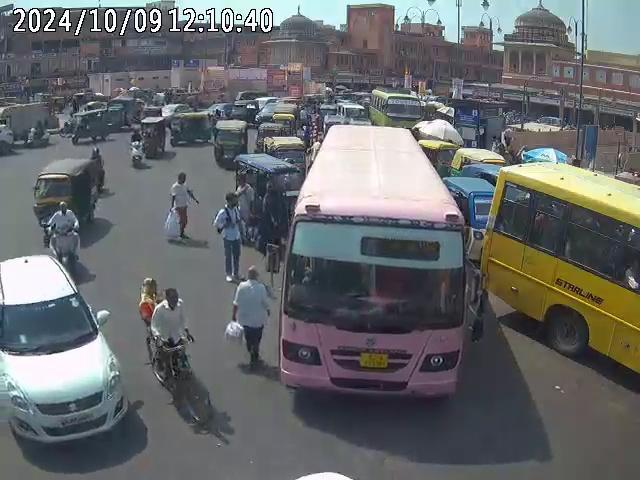auto: (233, 151, 301, 262), (32, 157, 103, 226), (412, 118, 462, 171), (135, 116, 171, 159), (68, 109, 108, 145), (172, 111, 212, 147)
bicycle-rider: (138, 279, 194, 423)
bus: (273, 121, 470, 407), (479, 158, 639, 412), (367, 86, 424, 130)
car: (0, 250, 129, 453)
helmet: (57, 200, 70, 213)
license_plate: (357, 350, 389, 369)
lorry: (0, 102, 52, 149)
motorbike-rider: (39, 200, 82, 274)
person: (229, 265, 273, 370), (213, 192, 249, 281), (167, 172, 198, 241)
scooty-rider: (129, 133, 148, 166)
